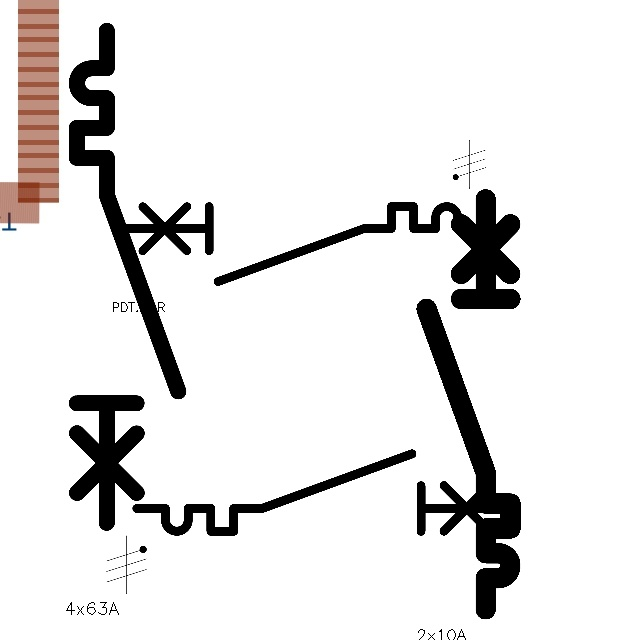interruptor_termomagnetico: (64, 18, 190, 535), (416, 188, 521, 619), (127, 444, 522, 541), (111, 197, 495, 291)
